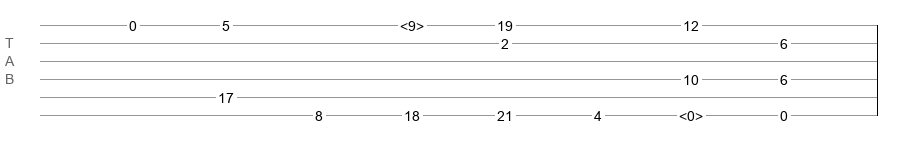0: (129, 18, 137, 28), (780, 108, 788, 118)
10: (683, 72, 699, 82)
12: (683, 18, 699, 28)
17: (218, 90, 234, 100)
18: (404, 108, 420, 118)
19: (497, 18, 513, 28)
2: (501, 36, 509, 46)
21: (497, 108, 513, 118)
4: (594, 108, 602, 118)
5: (222, 18, 230, 28)
6: (780, 36, 788, 46), (780, 72, 788, 82)
8: (315, 108, 323, 118)
harmonic: (400, 18, 424, 28), (679, 108, 703, 118)
